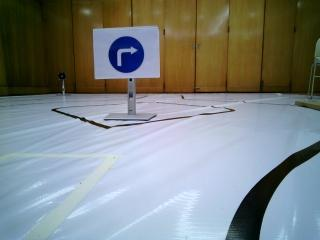right: (91, 30, 153, 71)
